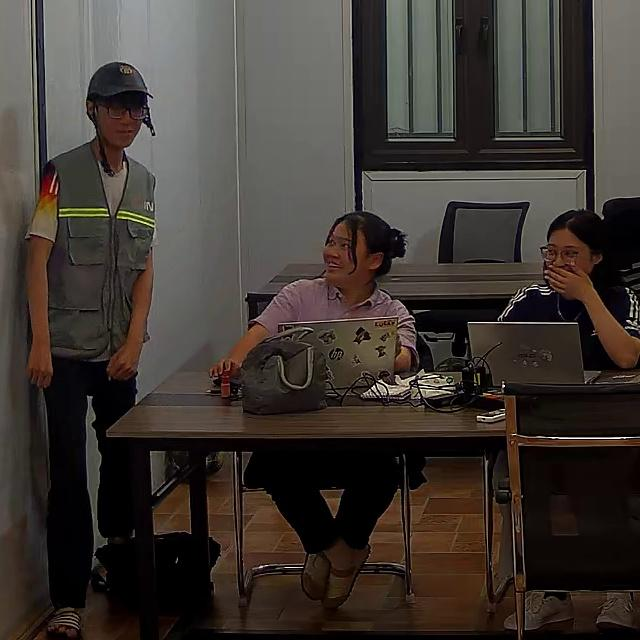helmet: (86, 60, 155, 99)
no_helmet: (551, 207, 632, 289), (328, 210, 409, 277)
none: (250, 275, 422, 371), (496, 282, 640, 371)
vest: (29, 143, 156, 360)
